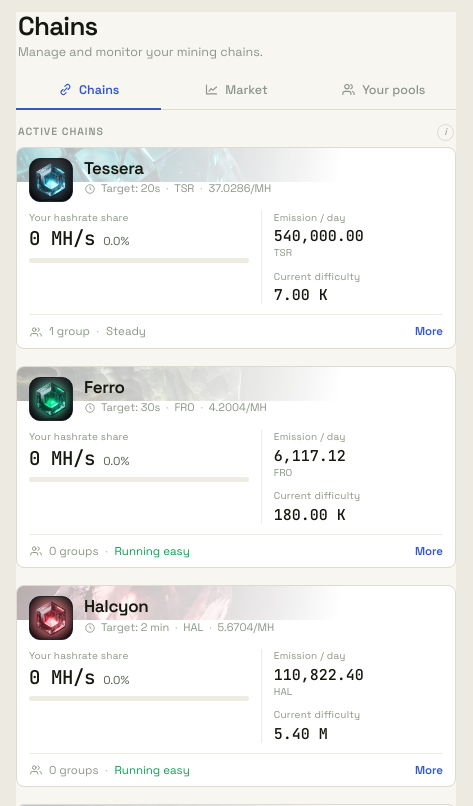
Scenario: ChainsView › shows a founded pool under "Your pools"
This screenshot has width=473, height=806.
Click the tab with class "segtab" showing "Your pools" at (383, 90), box [311,71,456,110]
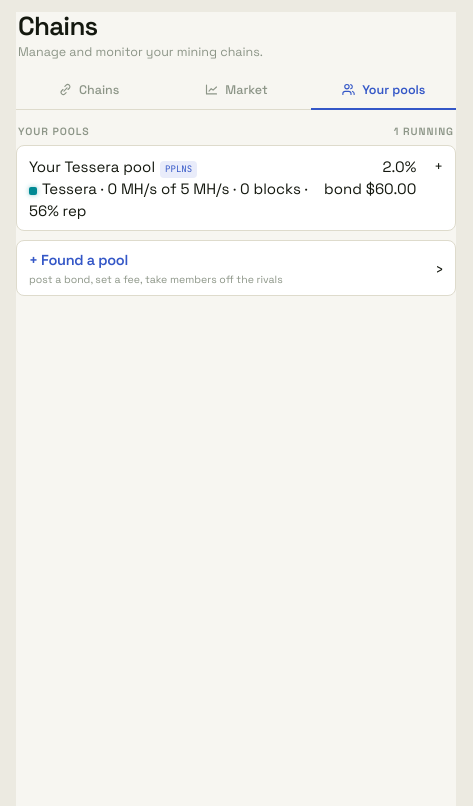
expect the text "Your Tessera pool" is shown: met, box [29,157,155,176]
